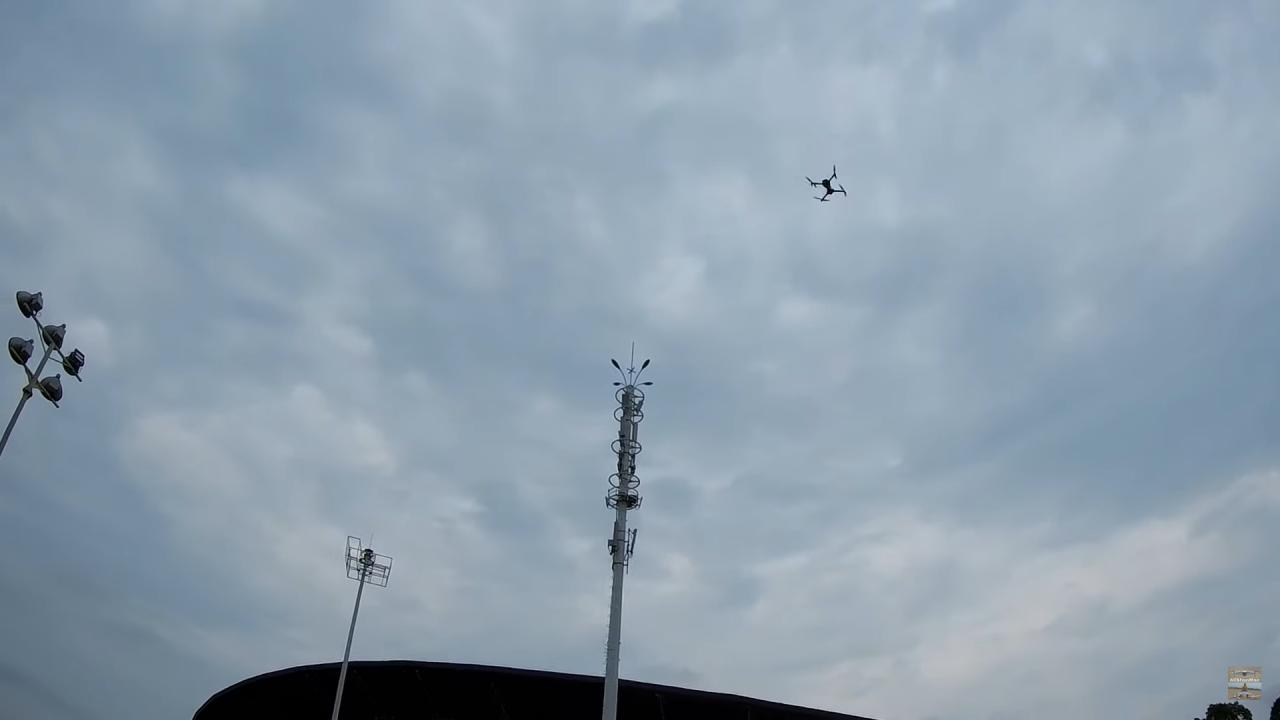Drone: (798, 157, 854, 210)
